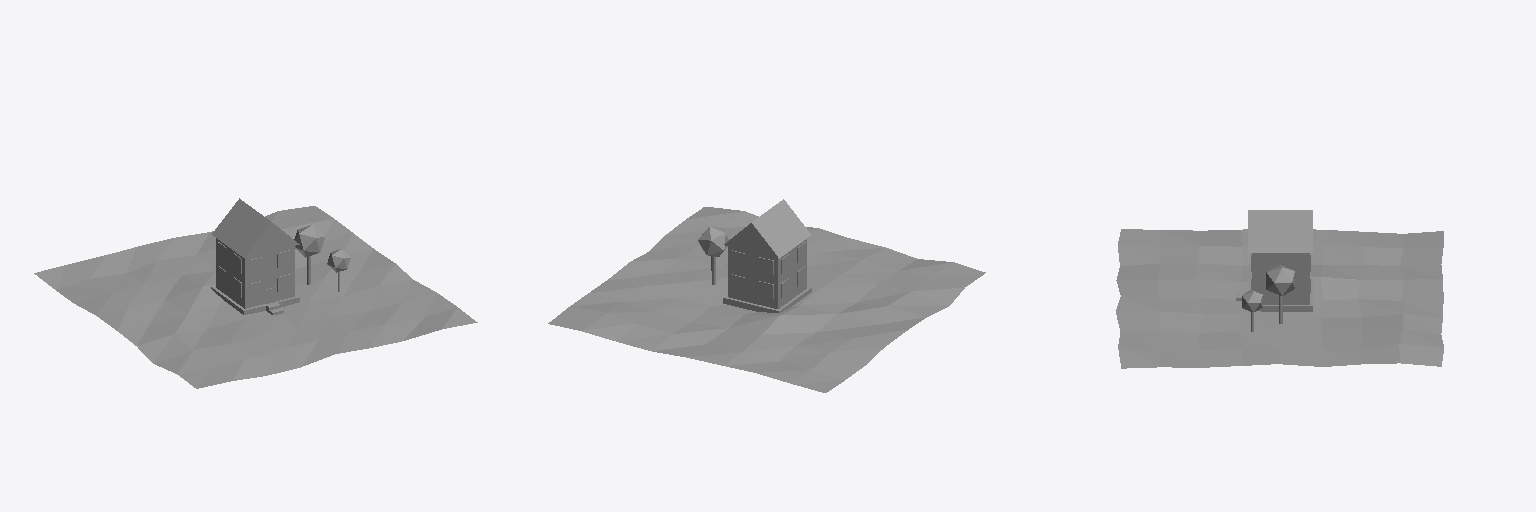
File: lowpolyhouse.obj
3 renders of one model, left to right at view 1: azimuth 30°, elevation 25°; view 2: azimuth 150°, elevation 25°; view 3: azimuth 270°, elevation 25°, orthographic.
Parts seen in each view (by area): view 1: boden_Plane.001, haus_Cube.001, dach_Cube.002, Icosphere, fundament_Cube; view 2: boden_Plane.001, haus_Cube.001, dach_Cube.002, Icosphere, fundament_Cube; view 3: boden_Plane.001, dach_Cube.002, haus_Cube.001, Icosphere.
Boxes of the visible parts, x1,y1,x2,y2 form: boden_Plane.001: [34, 206, 477, 388]; haus_Cube.001: [216, 238, 294, 308]; dach_Cube.002: [212, 198, 299, 257]; Icosphere: [294, 225, 324, 257]; fundament_Cube: [211, 286, 299, 314]; boden_Plane.001: [548, 207, 985, 392]; haus_Cube.001: [728, 239, 806, 308]; dach_Cube.002: [724, 199, 810, 258]; Icosphere: [698, 226, 728, 256]; fundament_Cube: [723, 287, 811, 312]; boden_Plane.001: [1116, 229, 1443, 368]; dach_Cube.002: [1248, 210, 1312, 252]; haus_Cube.001: [1251, 253, 1310, 304]; Icosphere: [1266, 265, 1294, 295].
Bounding box in the file's own units: 10.17 × 3.11 × 10.17.